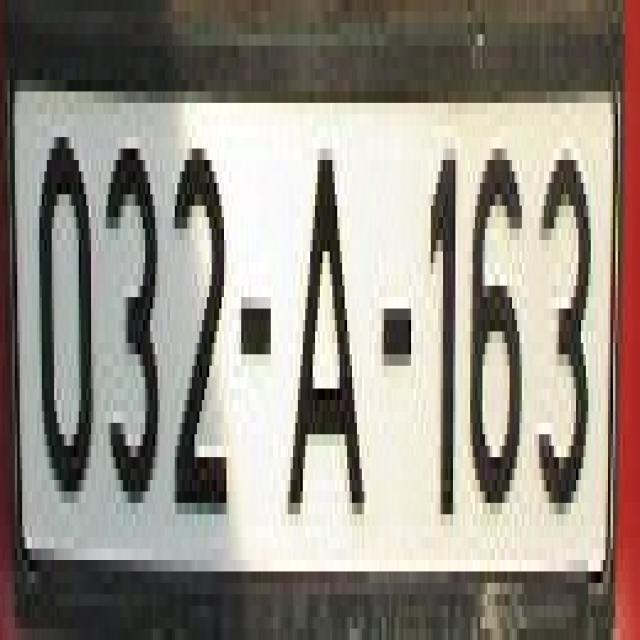0: (30, 114, 99, 514)
1: (423, 137, 463, 537)
2: (170, 126, 232, 503)
3: (529, 126, 593, 514), (104, 126, 158, 514)
6: (468, 114, 526, 514)
A: (283, 148, 364, 548)
